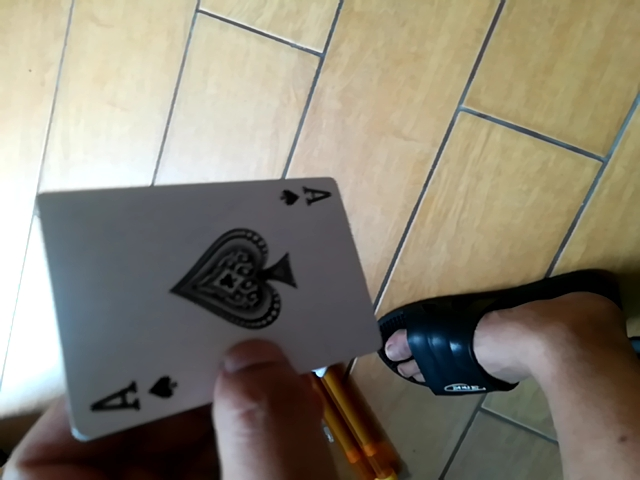ht a: (54, 172, 377, 437)
